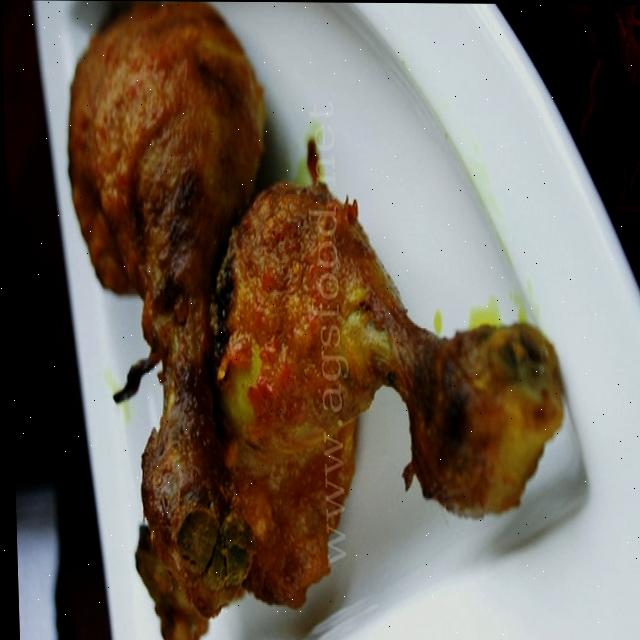鸡肉料理 含炸鸡: (33, 15, 600, 640)
